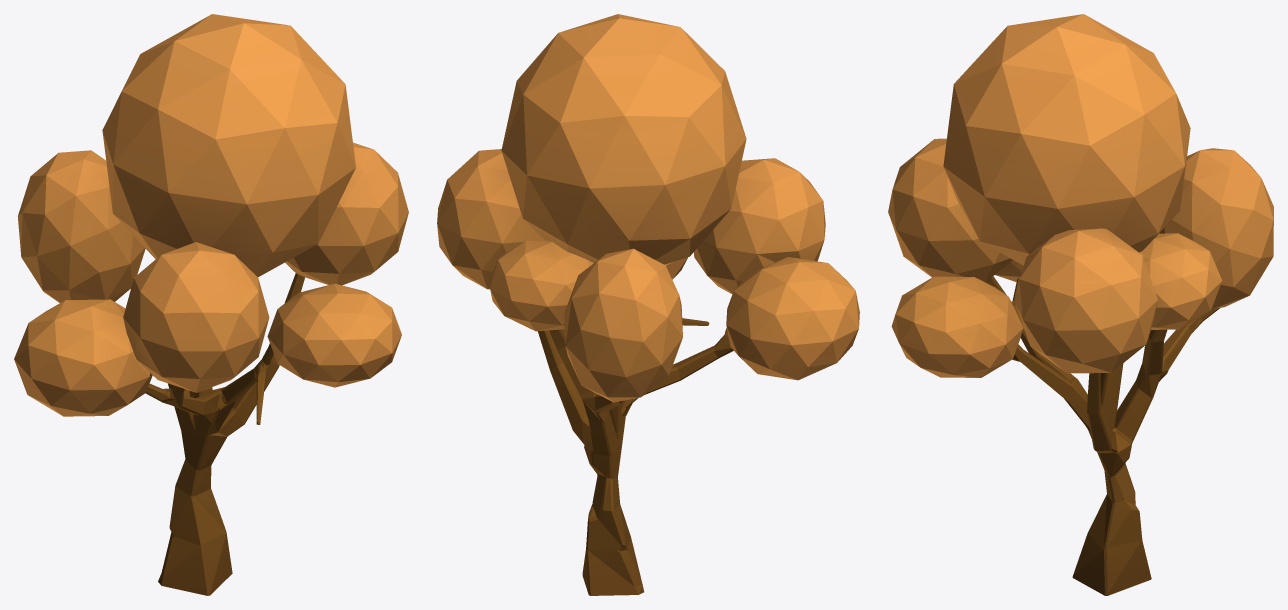
The model's file is tree_cluster.glb.
3 views of the same model, side by side, from view 1: azimuth 30°, elevation 25°; view 2: azimuth 150°, elevation 25°; view 3: azimuth 270°, elevation 25° (orthographic). The views are drawn at different scales.
Parts seen in each view (by area): view 1: Tree_10_AA; view 2: Tree_10_AA; view 3: Tree_10_AA.
Boxes of the visible parts, bbox=[...] form: Tree_10_AA: bbox=[14, 14, 408, 595]; Tree_10_AA: bbox=[437, 14, 859, 595]; Tree_10_AA: bbox=[888, 14, 1273, 595].
Bounding box in the file's own units: 2.3 × 3.13 × 1.94.
1 material, 1 textured.
